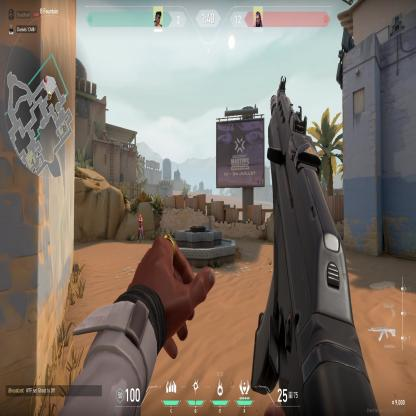enemy: (136, 212, 144, 244)
